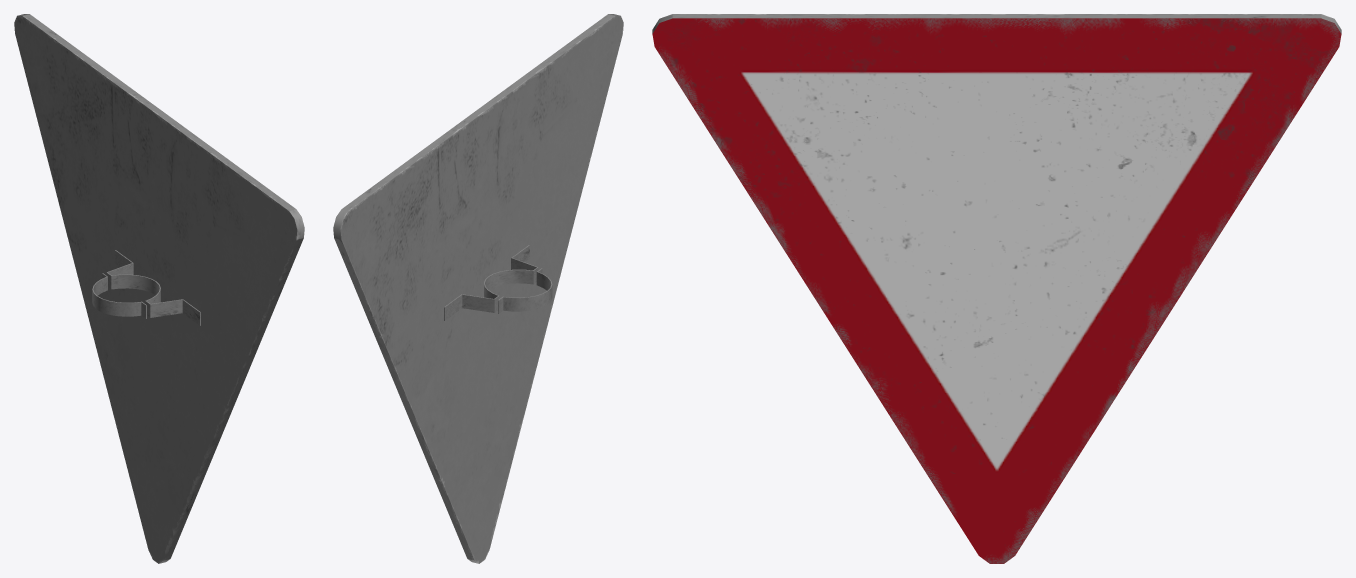
File: Sign-Attention.fbx
The picture shows the model from 3 angles, left to right: view 1: azimuth 30°, elevation 25°; view 2: azimuth 150°, elevation 25°; view 3: azimuth 270°, elevation 25°; orthographic projection. The views are drawn at different scales.
Visible parts, largest first — view 1: Sign_Attention; view 2: Sign_Attention; view 3: Sign_Attention.
Boxes of the visible parts, box(x1,y1,x2,y2) form: Sign_Attention: box(14, 14, 304, 563); Sign_Attention: box(333, 14, 623, 563); Sign_Attention: box(652, 14, 1341, 563).
Bounding box in the file's own units: 9.86 × 60.43 × 69.18.
